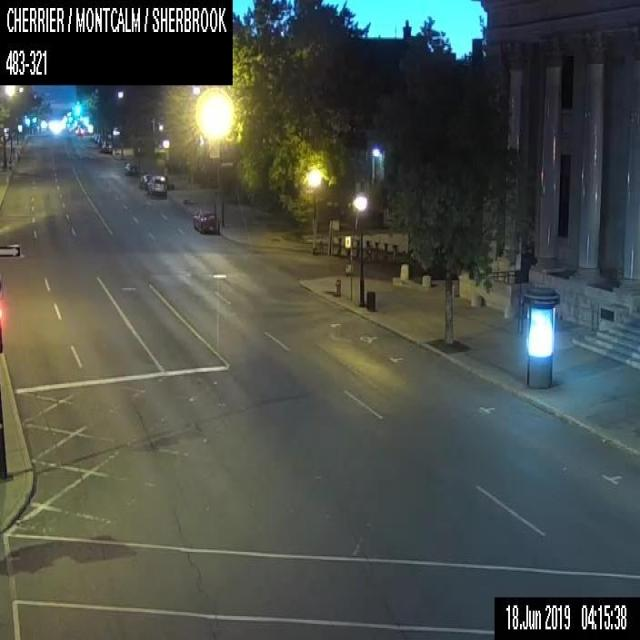vehicle: (191, 211, 219, 233), (146, 175, 167, 197), (138, 173, 152, 189), (124, 160, 136, 174), (101, 138, 111, 152)
